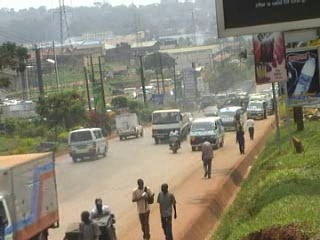Car: (199, 104, 226, 120), (181, 111, 195, 129)
Motorcycle: (165, 127, 181, 153)
